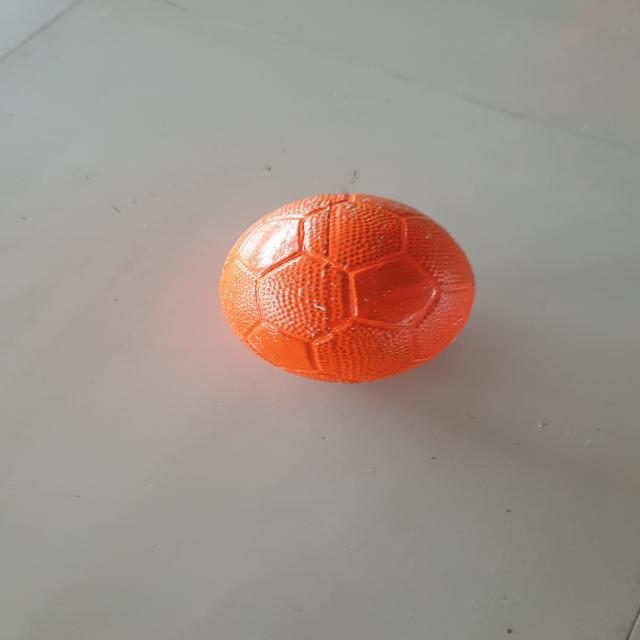bola: (218, 191, 496, 389)
